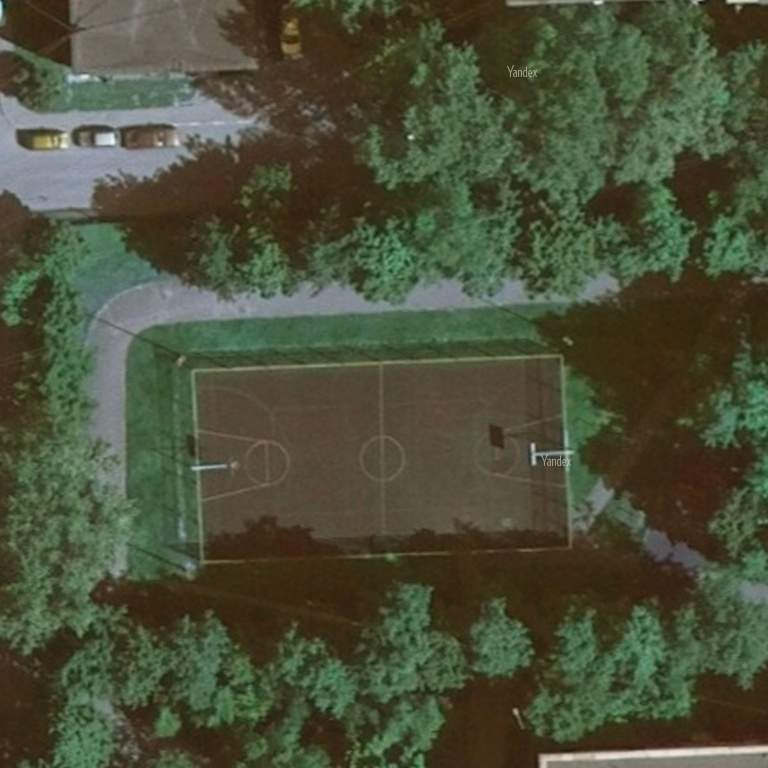basket_court: (166, 346, 588, 575)
